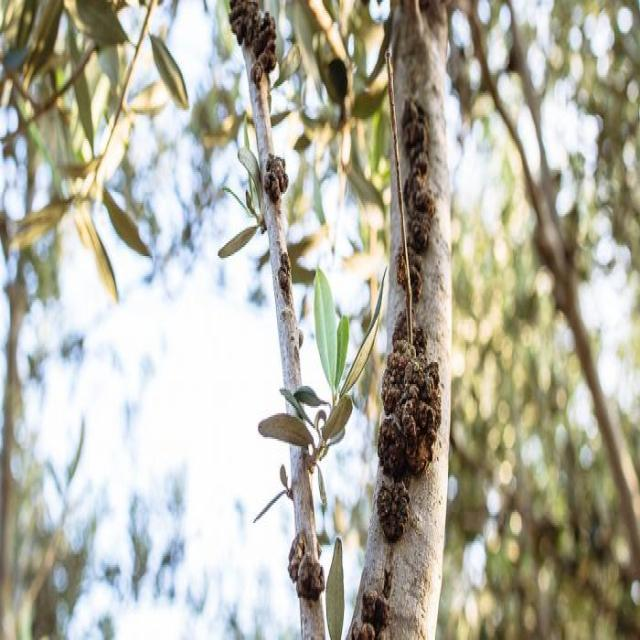Tuberculosis: (377, 313, 441, 539), (401, 99, 434, 302), (229, 0, 277, 92), (349, 564, 395, 638), (288, 532, 325, 603), (264, 154, 290, 204), (277, 249, 291, 298), (397, 254, 409, 291)
